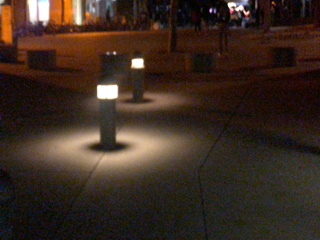Obstacle: (98, 86, 117, 150), (133, 53, 147, 98)
